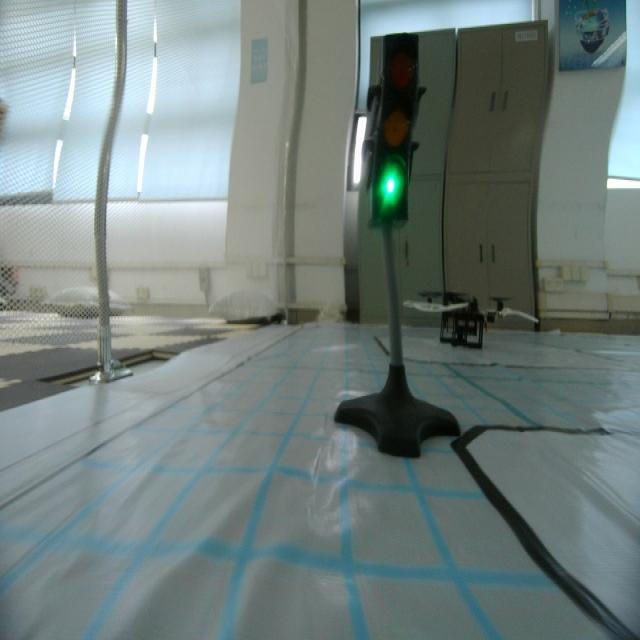green: (374, 32, 411, 227)
